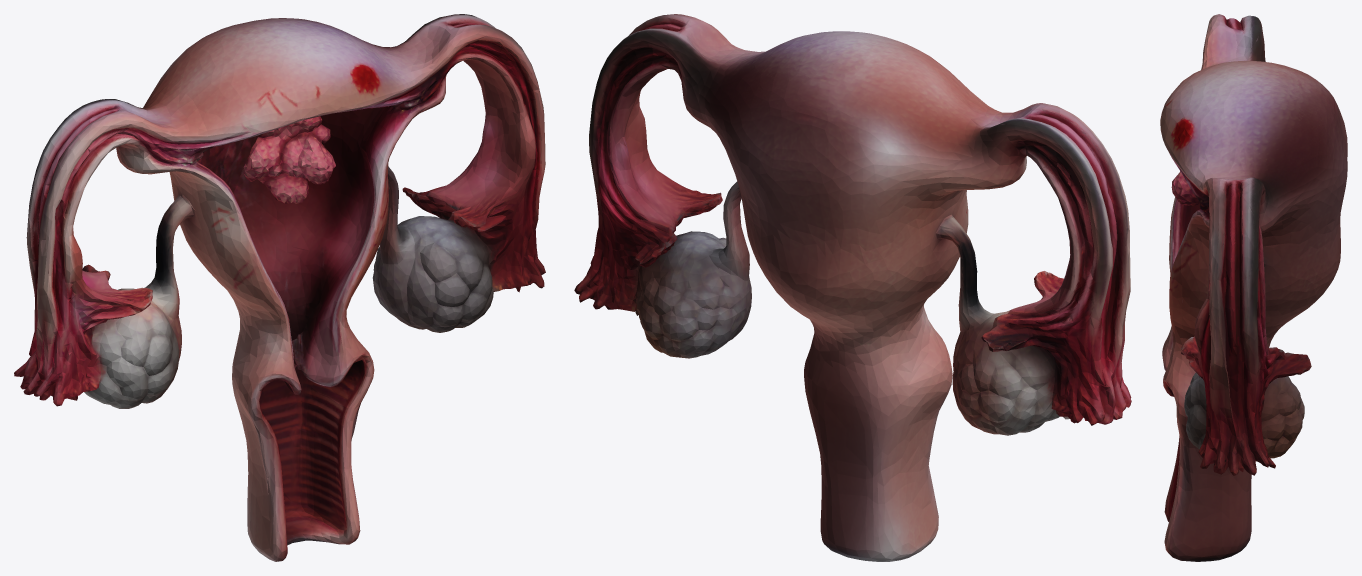
The model's file is uterus.fbx.
3 renders of one model, left to right at view 1: azimuth 30°, elevation 25°; view 2: azimuth 150°, elevation 25°; view 3: azimuth 270°, elevation 25°, orthographic. The views are drawn at different scales.
Parts seen in each view (by area): view 1: world; view 2: world; view 3: world.
Part boxes in pixels (x1,y1,x2,y2): world: [14, 14, 545, 561]; world: [574, 14, 1131, 561]; world: [1160, 14, 1347, 561].
Bounding box in the file's own units: 99.83 × 92.88 × 33.43.
Materials: 1 (1 with a texture image).
